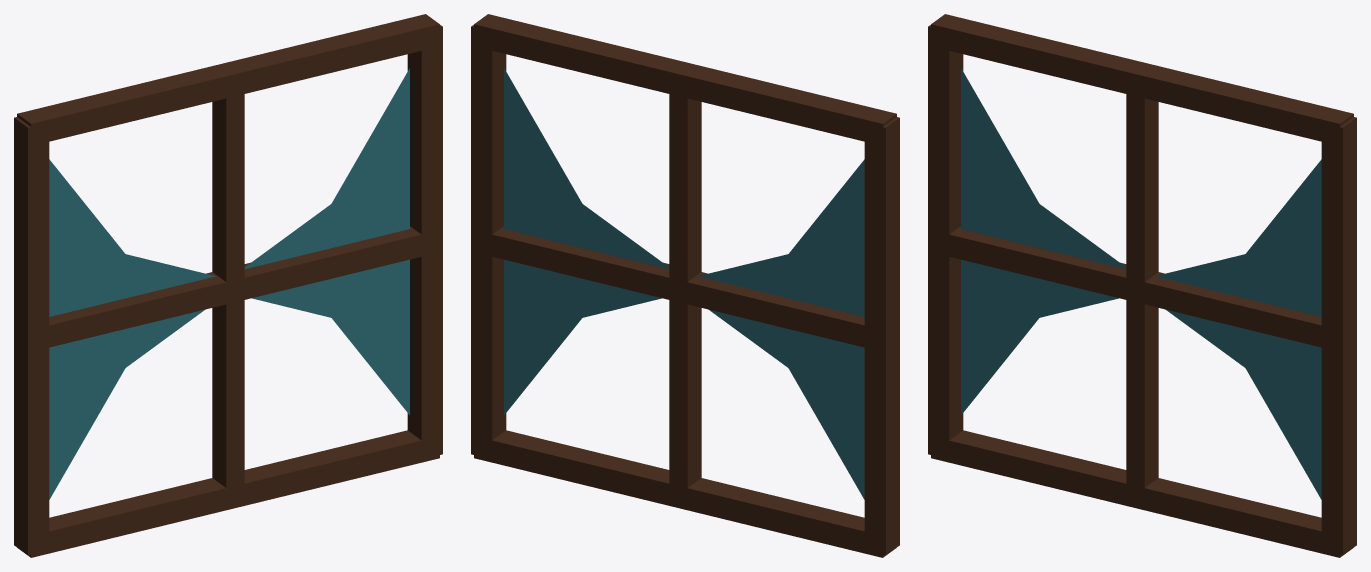
The model's file is BrokenWindow.obj.
The picture shows the model from 3 angles, left to right: view 1: azimuth 30°, elevation 25°; view 2: azimuth 150°, elevation 25°; view 3: azimuth 330°, elevation 25°; orthographic projection.
Parts seen in each view (by area): view 1: BrokenWindow; view 2: BrokenWindow; view 3: BrokenWindow.
Boxes of the visible parts, bbox=[...] form: BrokenWindow: bbox=[14, 14, 442, 557]; BrokenWindow: bbox=[471, 14, 899, 557]; BrokenWindow: bbox=[928, 14, 1356, 557].
Size of the model in its own units: 1.37 by 1.37 by 0.08.
